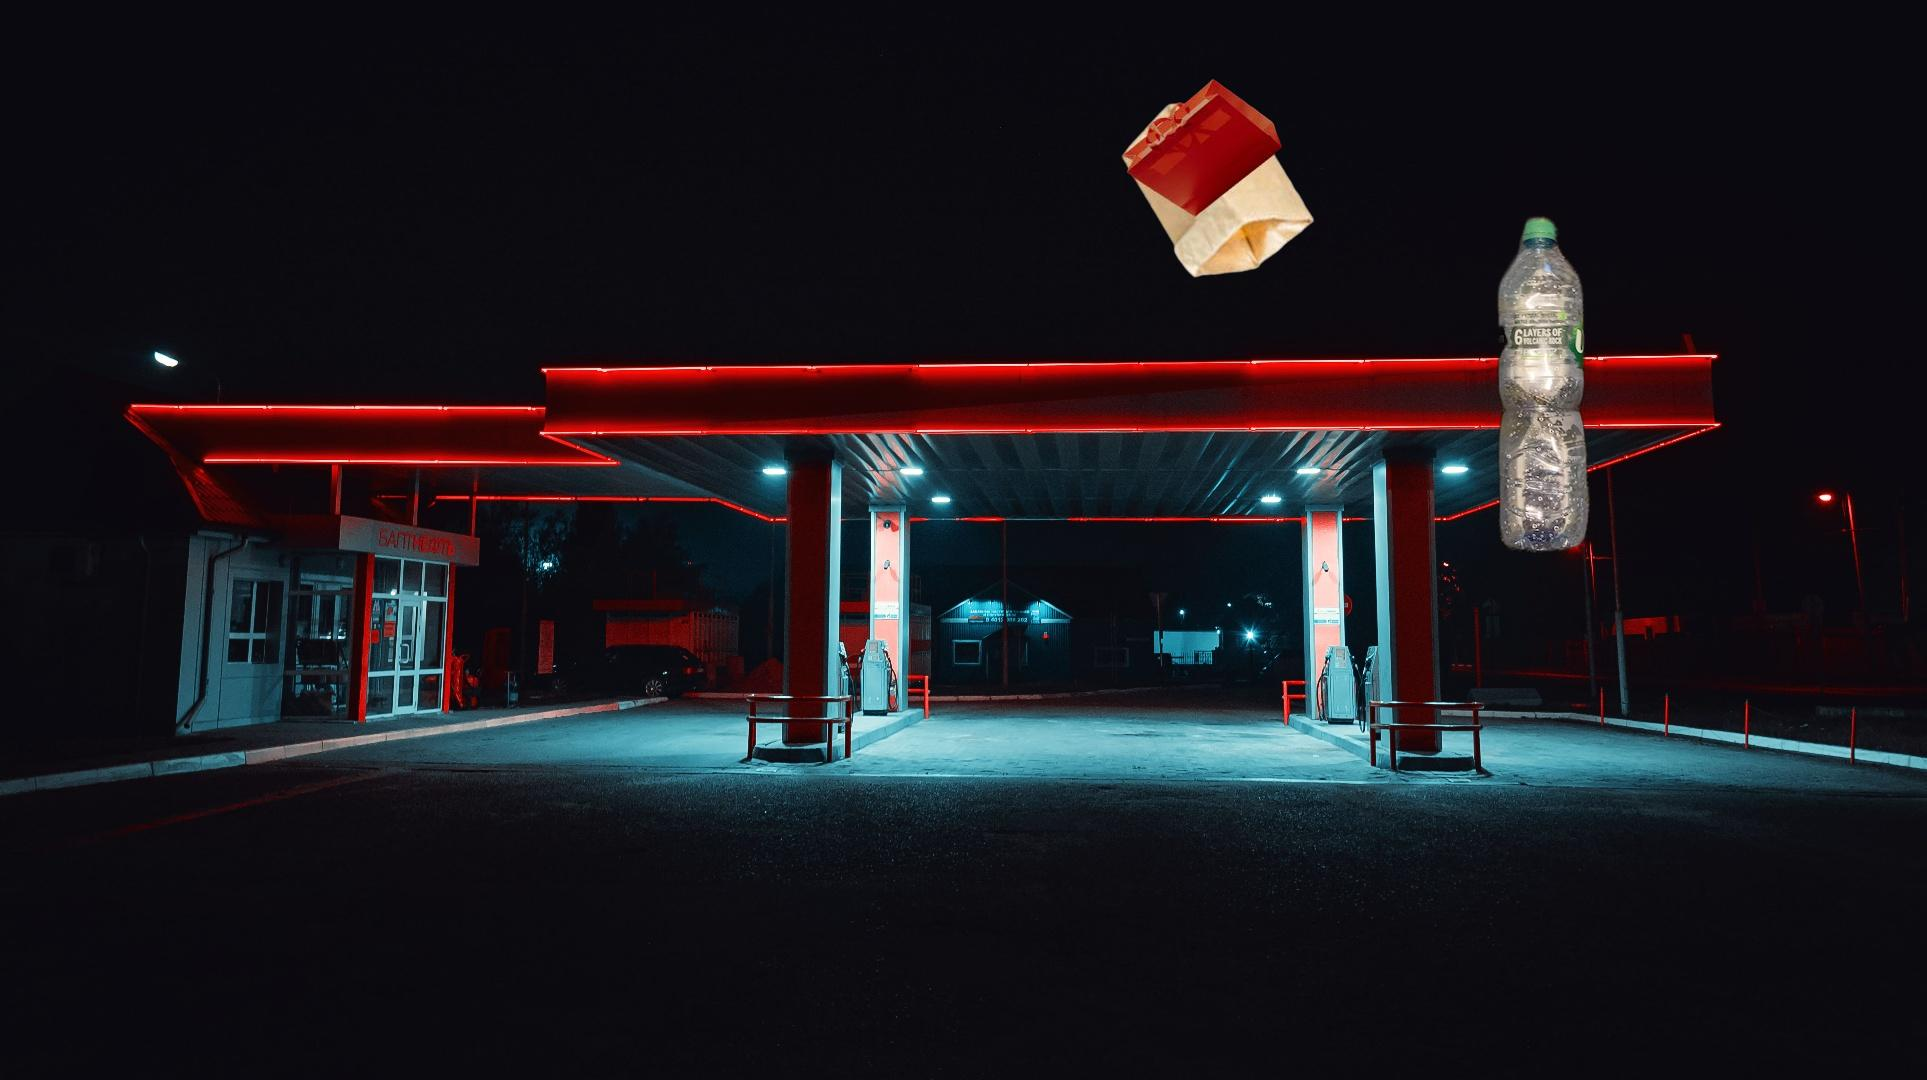paper-bag: (1118, 75, 1318, 281)
plastic-bottles: (1492, 210, 1595, 559)
